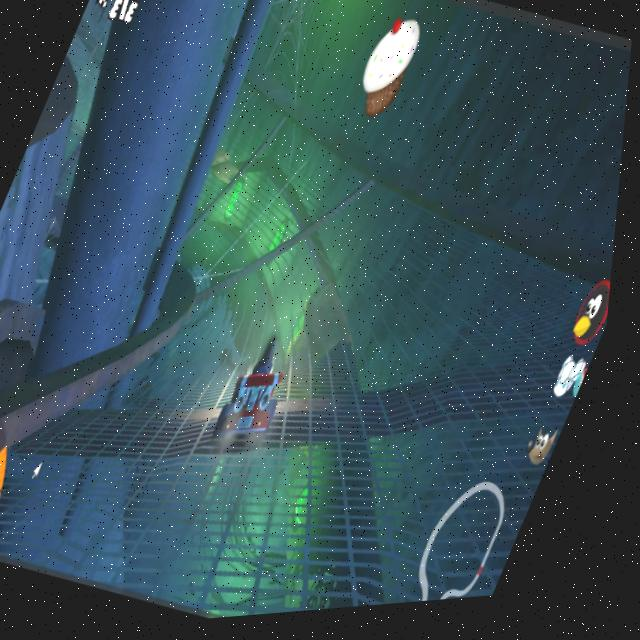player_kart: (210, 332, 310, 464)
track: (172, 138, 482, 359)
